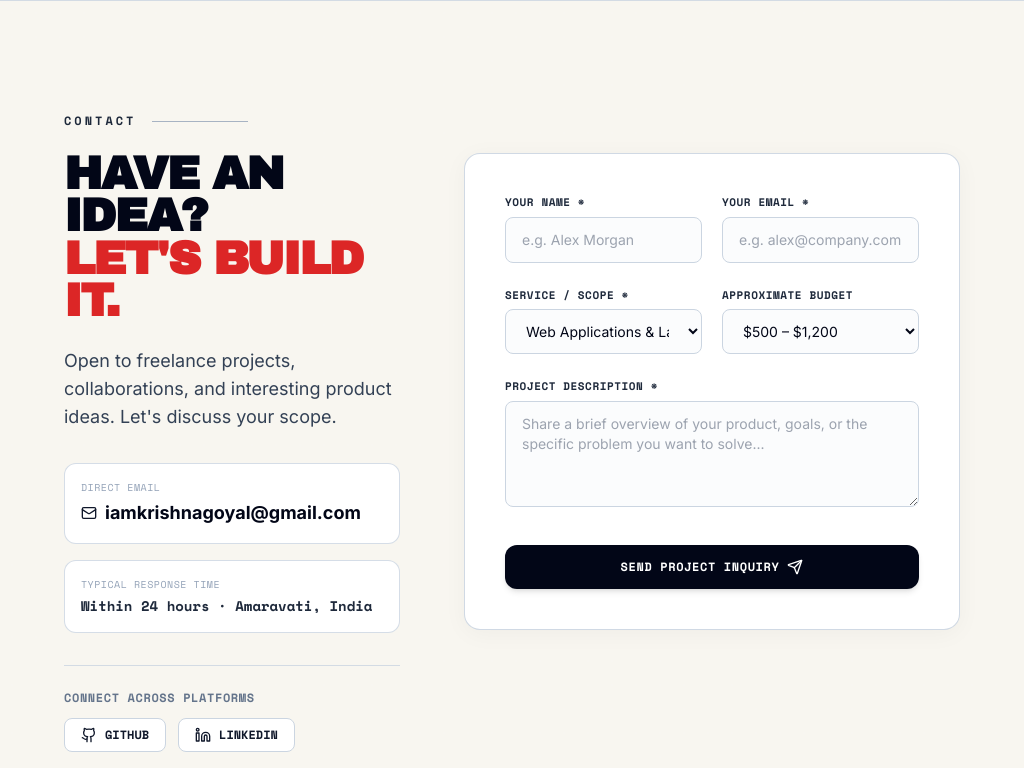
New Sections Suite › ContactSection › displays validation errors on invalid submit
Click the button "SEND PROJECT INQUIRY" at point(712, 566), box [505, 544, 919, 588]
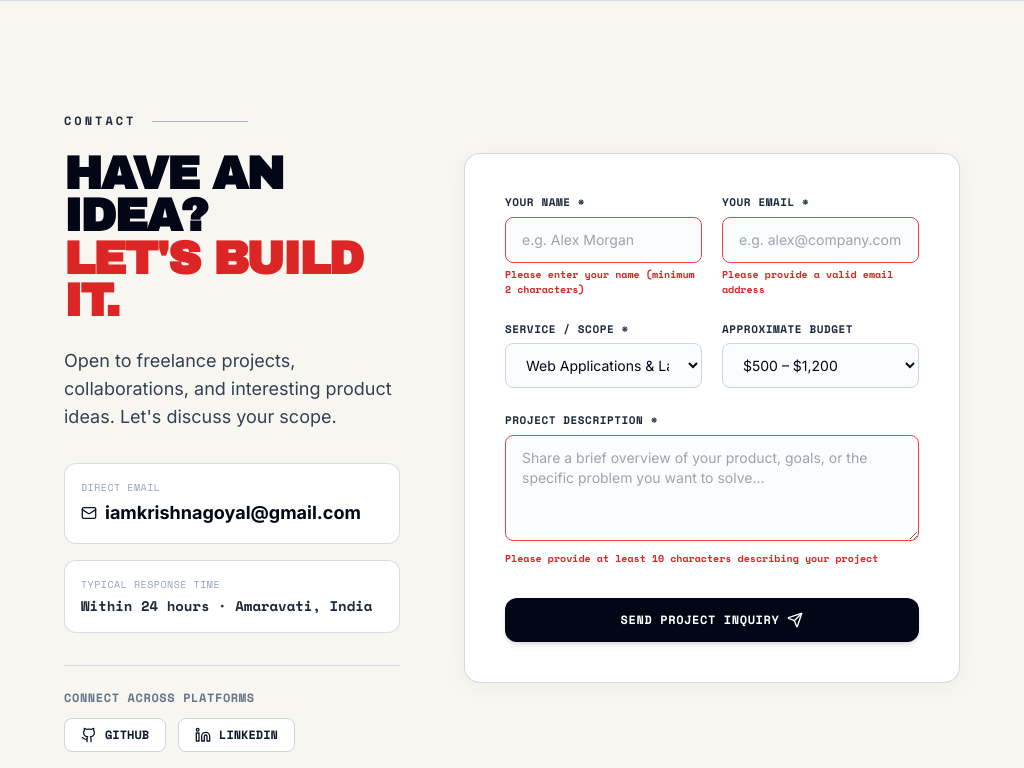
Now the text "Please enter your name (minimum 2 characters)" is shown, box [505, 266, 702, 296]
Now the text "Please provide a valid email address" is shown, box [722, 266, 919, 296]
